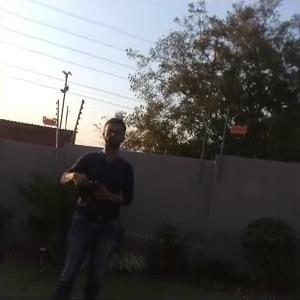follow: (49, 111, 139, 299)
